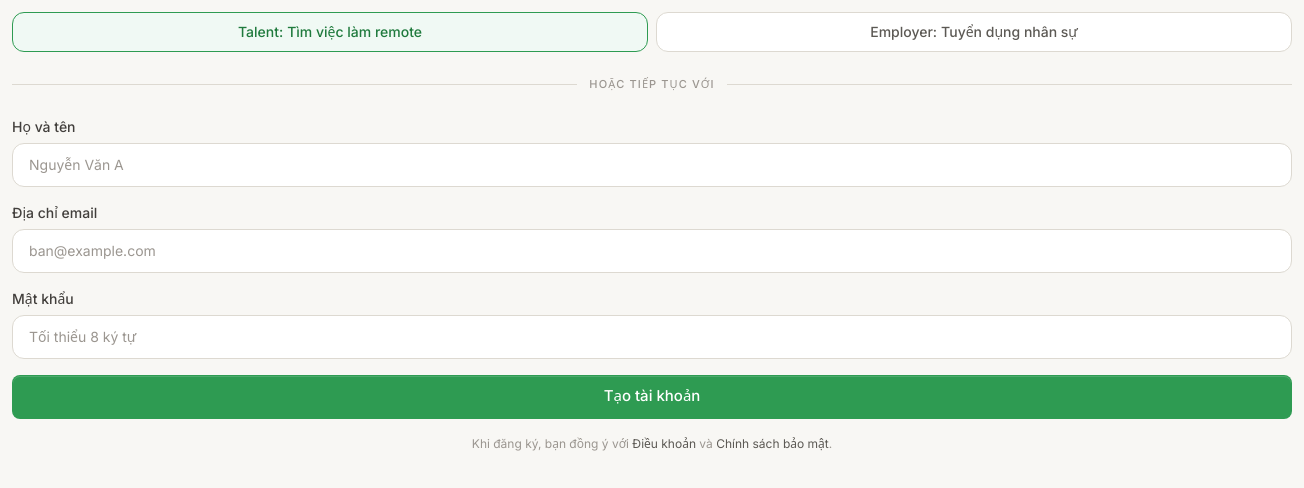
Scenario: RegisterForm Name Validation › displays warning when entering a 1-character name with surrounding whitespace
The width and height of the screenshot is (1304, 488).
Type " A " into the field labelled "Họ và tên".
click(652, 164); type(" A ")  # box [12, 142, 1292, 186]
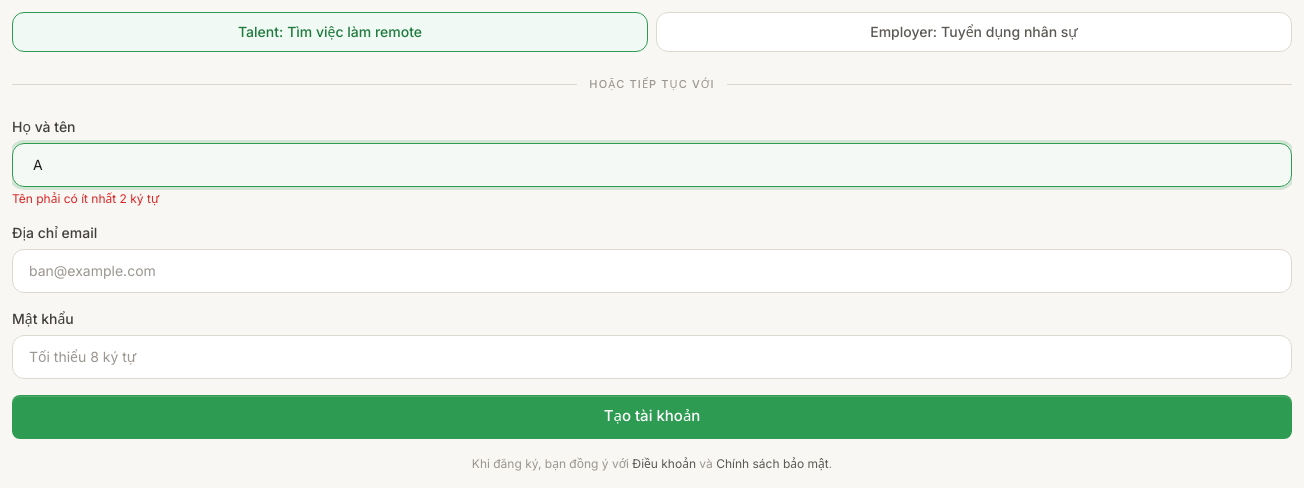
Now the text "Tên phải có ít nhất 2 ký tự" is shown, box [12, 190, 159, 206]
